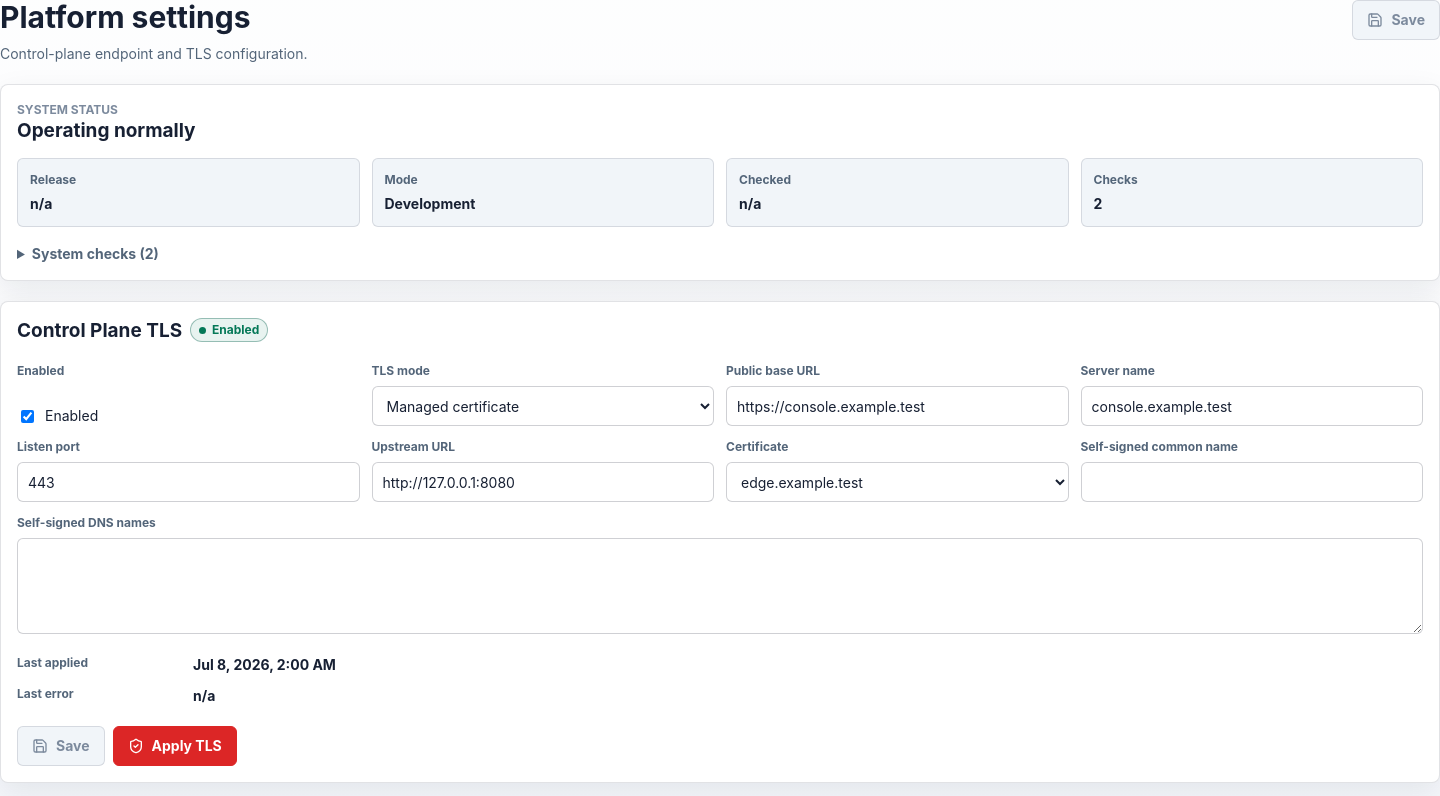
Test case: Platform settings, mail and access pages › maps backend field errors for settings save failures
Replace the text in the field labelled "Public base URL" with "http://not-secure.example.test" at (897, 406), box top-left (726, 386), bottom-right (1068, 426)
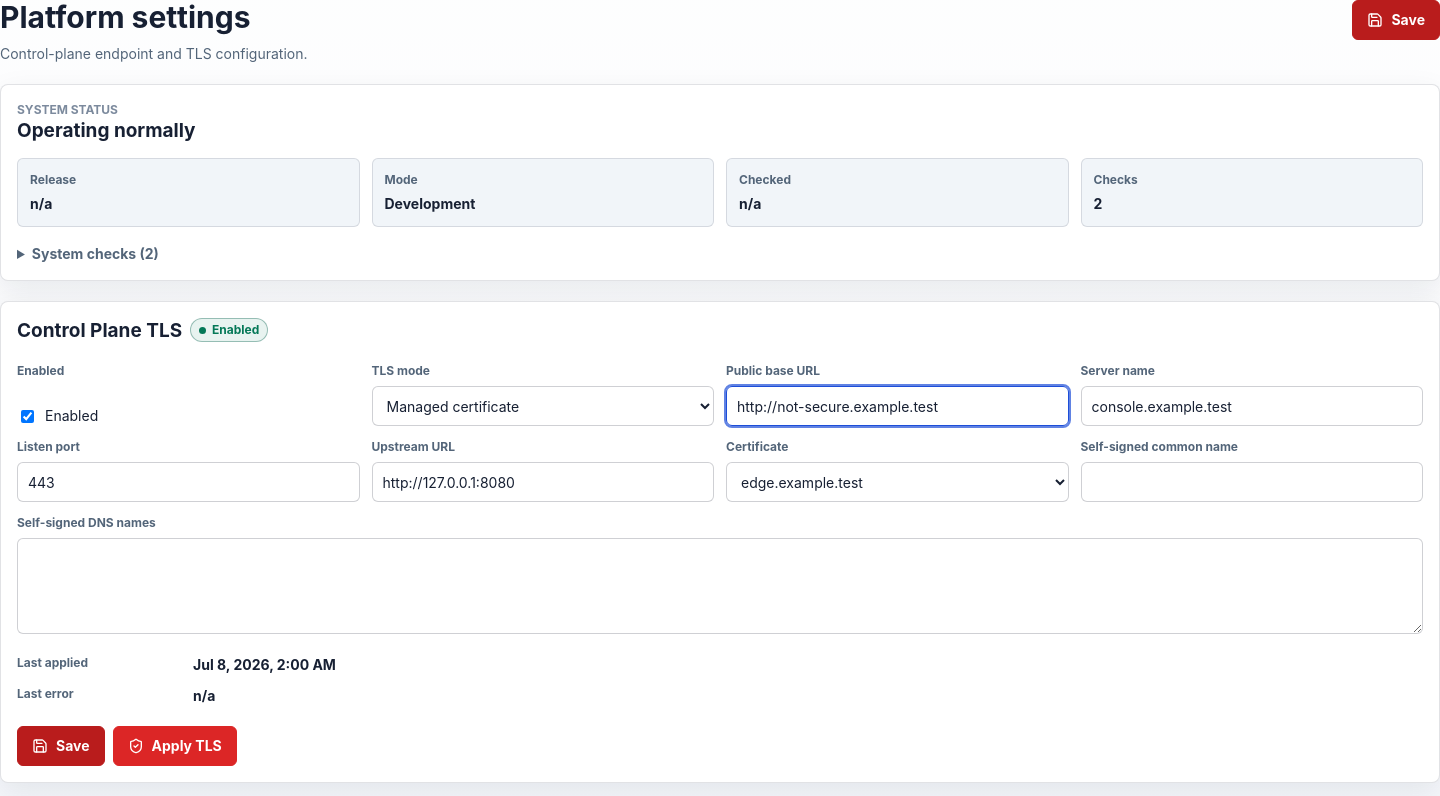
Click the button "Save" in the row of "Platform settings" at (1396, 20), box top-left (1352, 0), bottom-right (1439, 40)
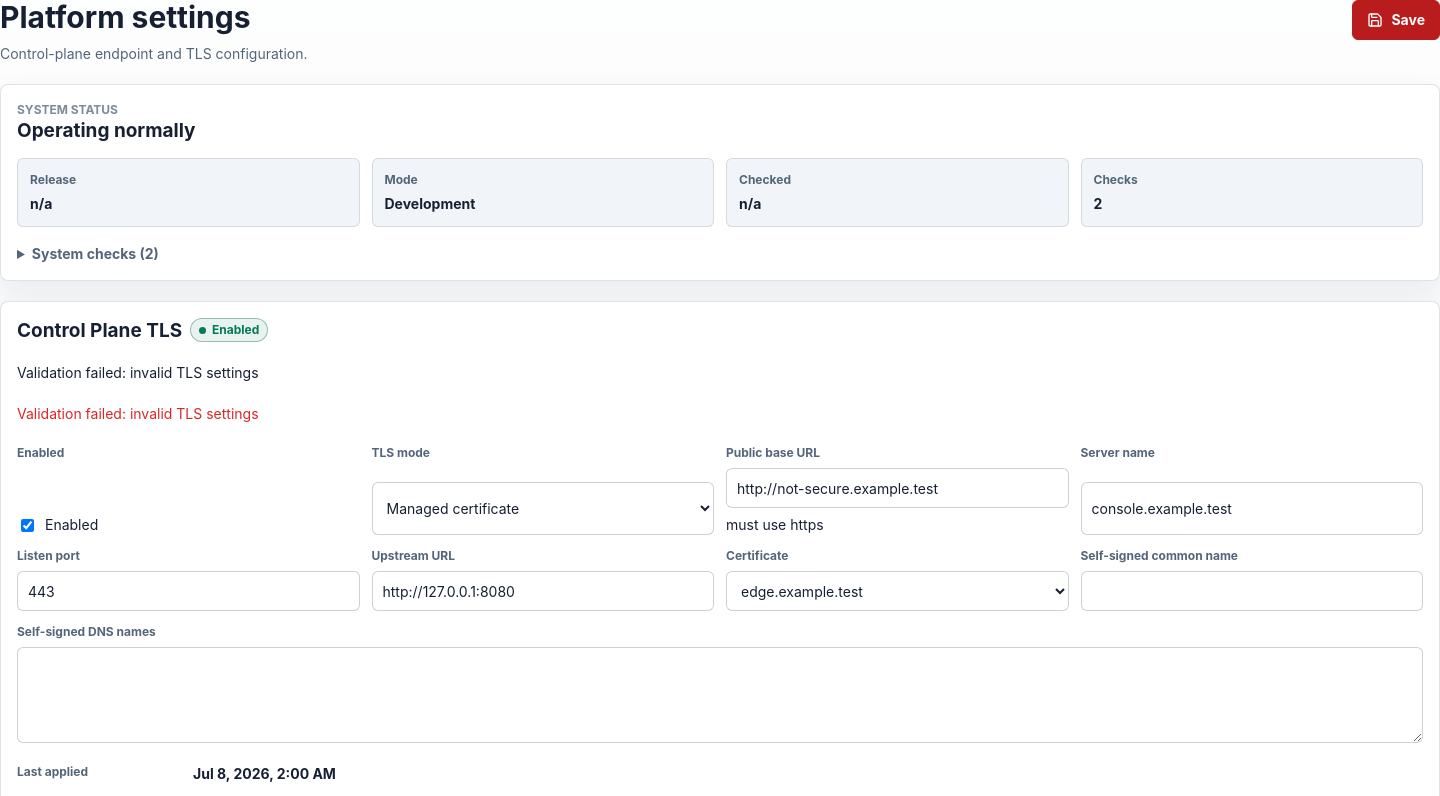
Result: the text "must use https" is shown at top-left (726, 516), bottom-right (824, 533)
Result: the 1st text "Validation failed: invalid TLS settings" is shown at top-left (17, 364), bottom-right (258, 381)
